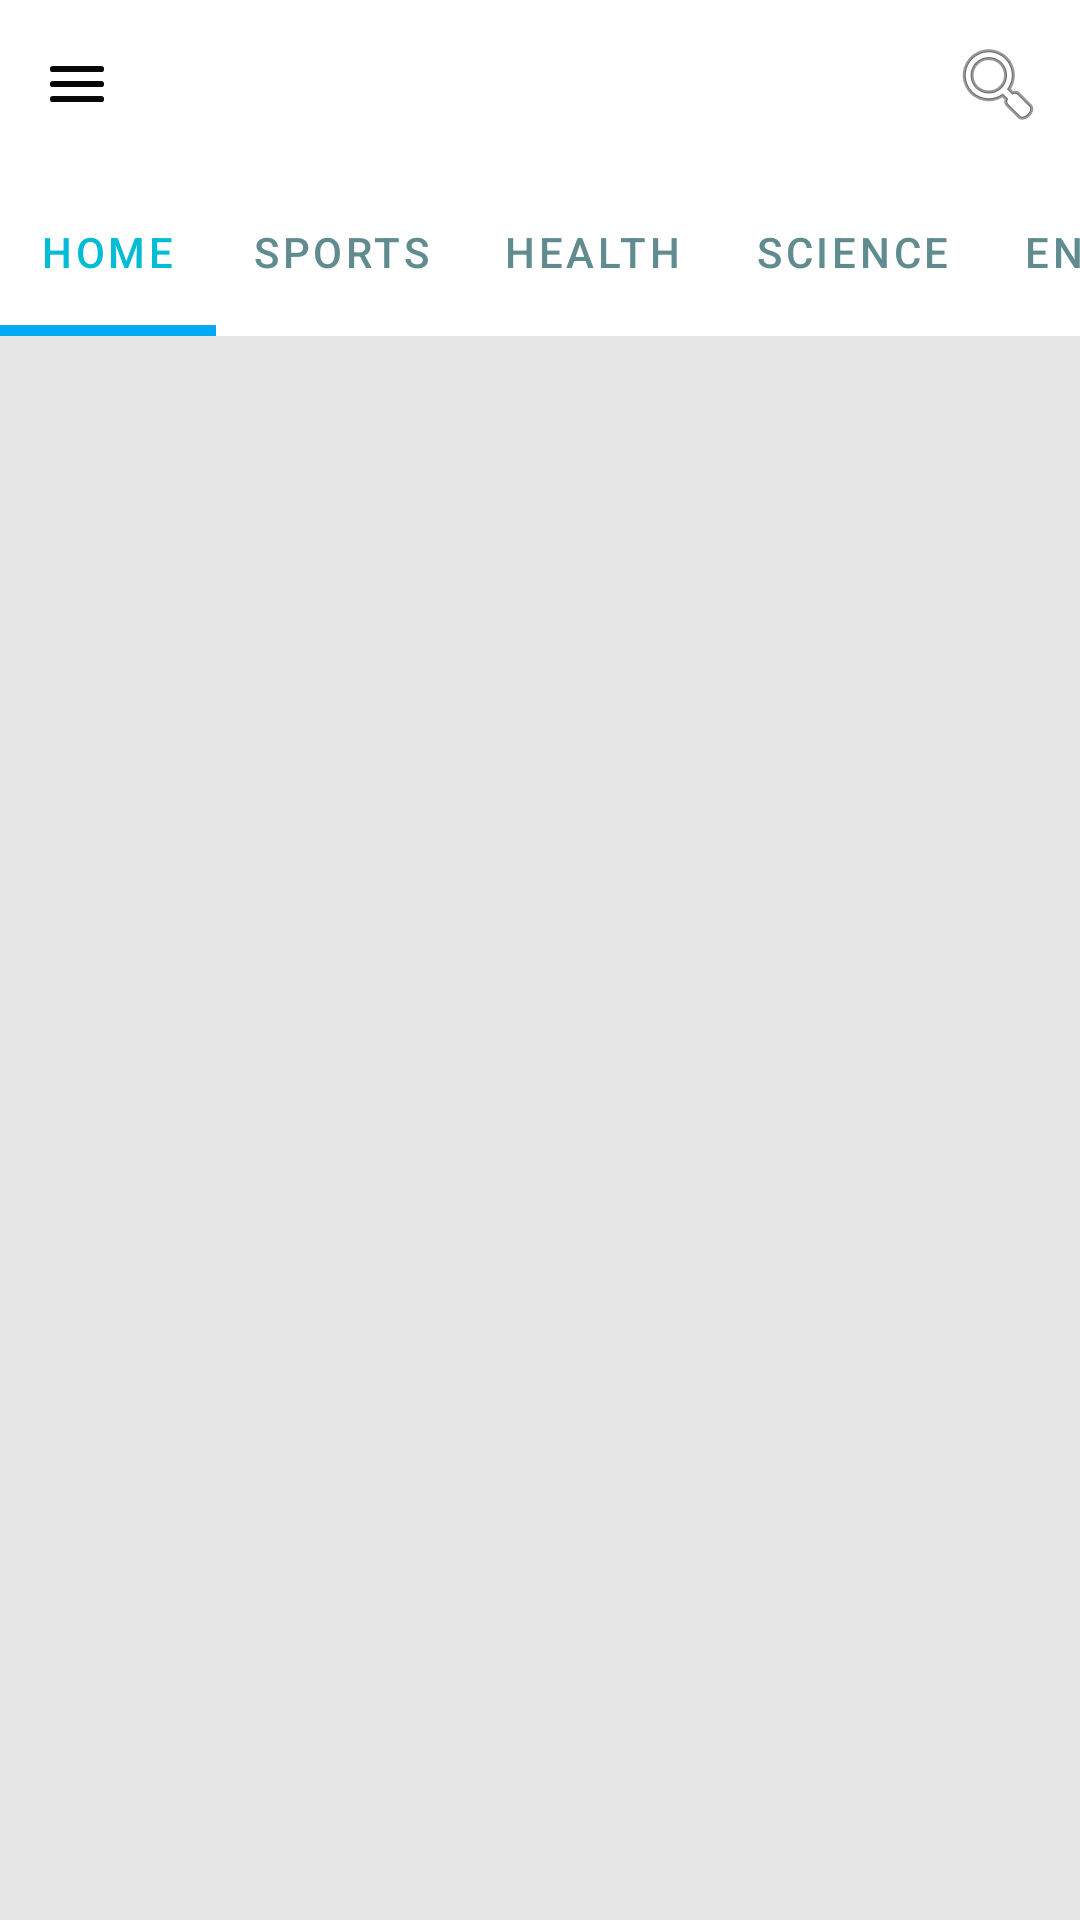

Icon bounding boxes for this 1080px×1920px phone screenshot, format (x1, y1, x2, y2):
menu: (50, 66, 104, 102)
search: (962, 49, 1034, 120)
